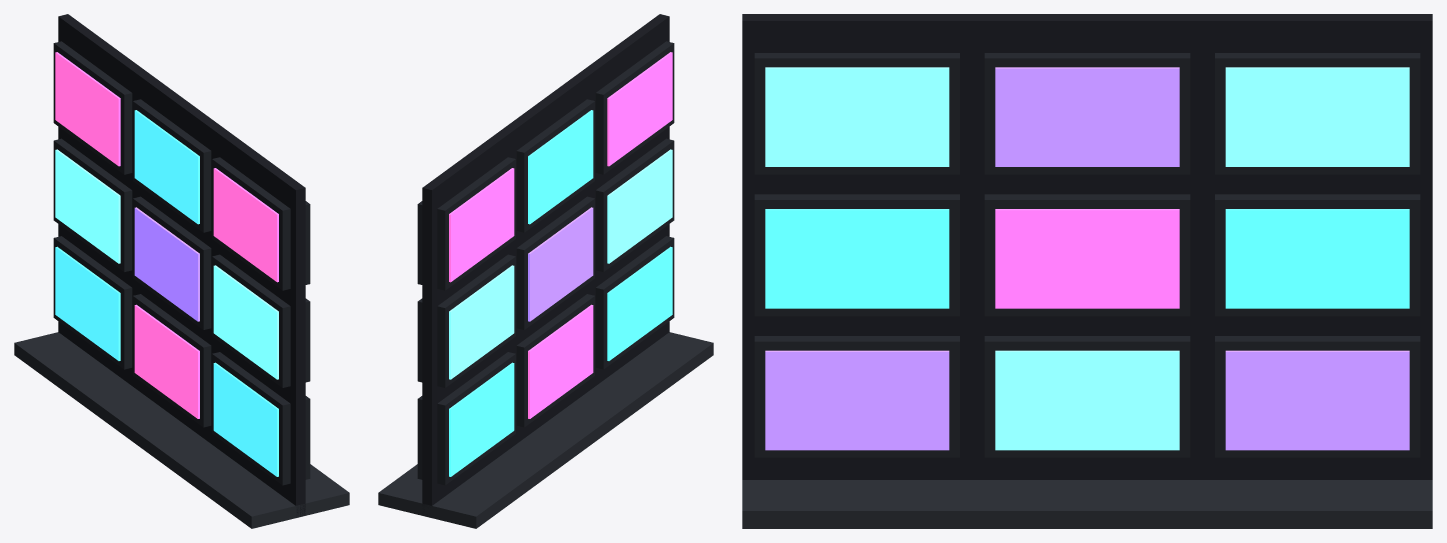
The model's file is tv-wall.glb.
3 renders of one model, left to right at view 1: azimuth 30°, elevation 25°; view 2: azimuth 150°, elevation 25°; view 3: azimuth 270°, elevation 25°, orthographic. The views are drawn at different scales.
Visible parts, largest first — view 1: tv-wall; view 2: tv-wall; view 3: tv-wall.
Boxes of the visible parts, x1,y1,x2,y2 form: tv-wall: (14, 14, 349, 528); tv-wall: (378, 14, 713, 528); tv-wall: (742, 14, 1432, 528).
Size of the model in its own units: 1 by 3.2 by 4.2.
